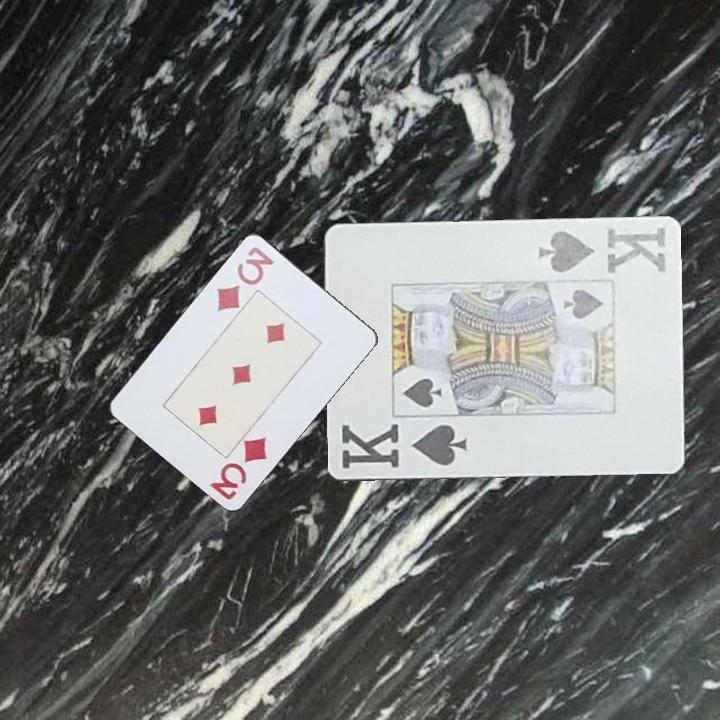3d: (212, 244, 277, 315), (206, 433, 270, 503)
Ks: (337, 420, 470, 473), (535, 224, 668, 277)
